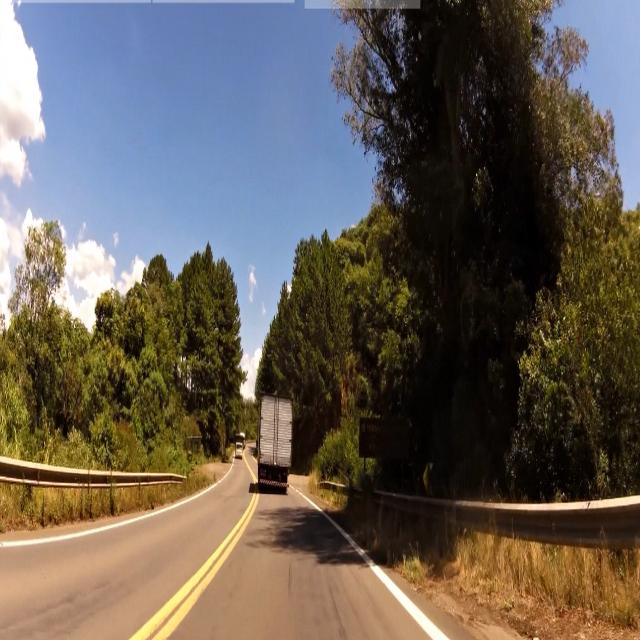Del: (420, 464, 432, 502)
